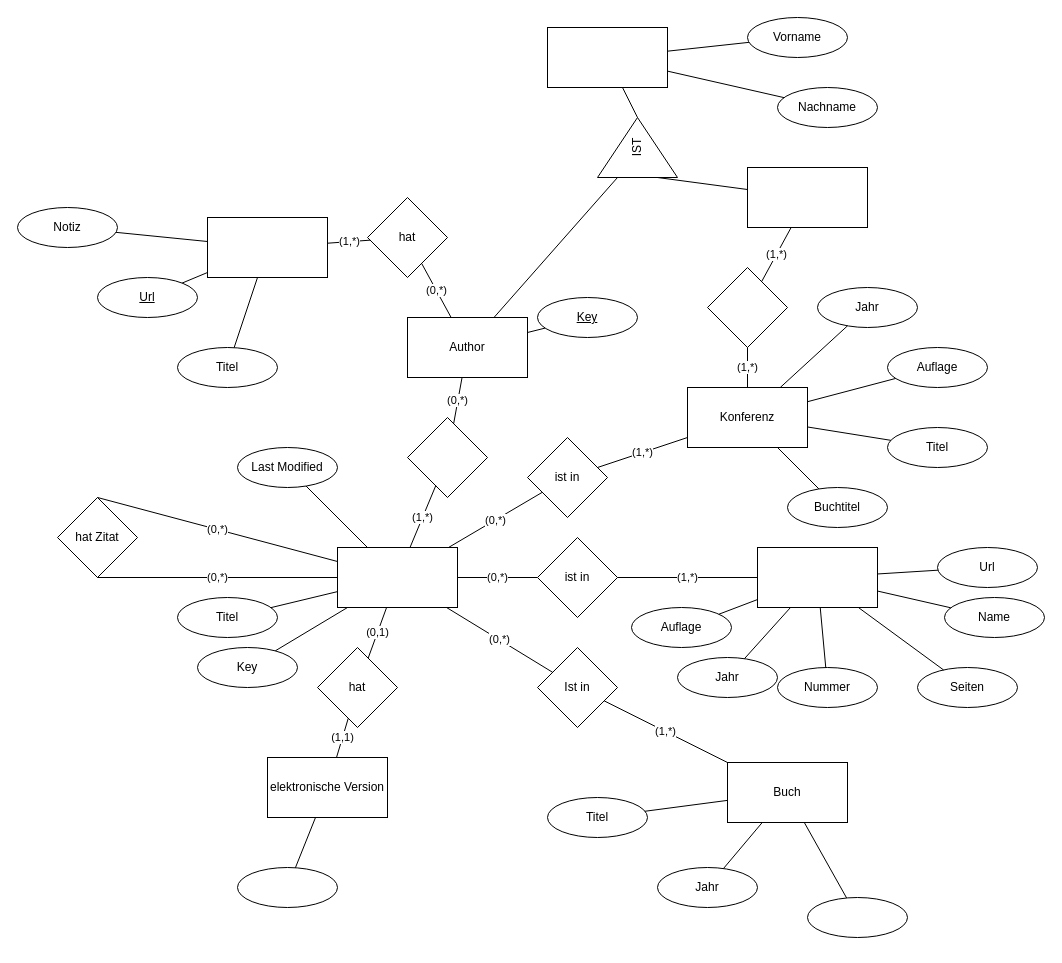
Image size: 1062x963. Some labels were removed from this diagram. Each missing label, with the centre of its shape:
"Adresse" goes at (287,887).
"Bearbeiter" goes at (807,197).
"bearbeitet" goes at (747,307).
"Fachzeitschrift" goes at (817,577).
"Homepage" goes at (267,247).
"Person" goes at (607,57).
"Publikation" goes at (397,577).
"Publisher" goes at (857,917).
"schreibt" goes at (447,457).
